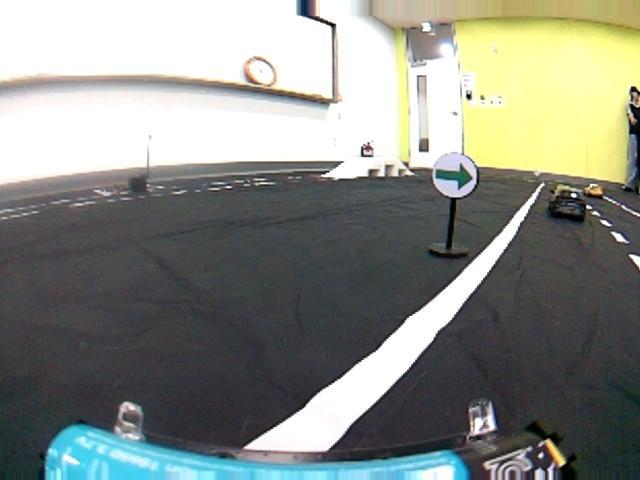car: (540, 179, 595, 235)
right: (26, 286, 640, 479)
sign_right: (433, 143, 478, 204)
